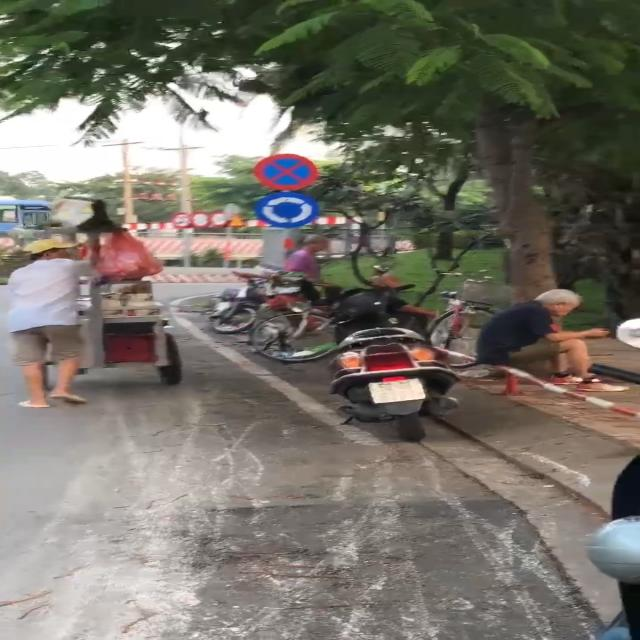Bien bao cam dung xe va do xe: (255, 151, 322, 192)
Bien bao noi giao nhau chay theo vong xuyen: (255, 190, 326, 230)
